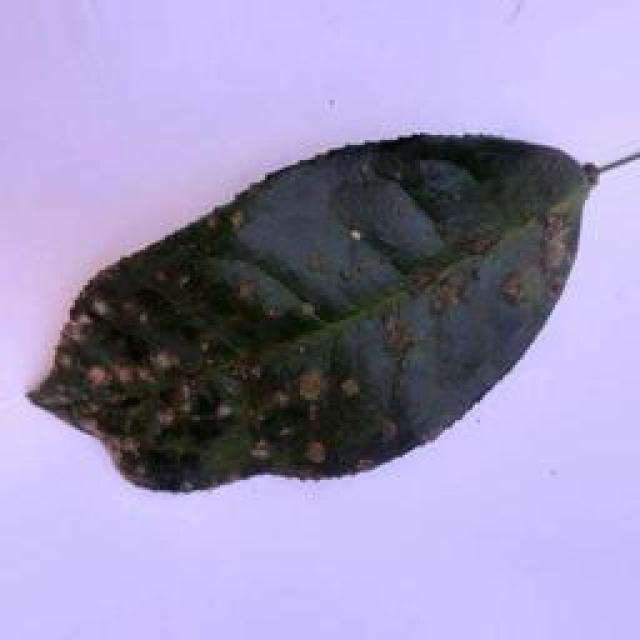Algal Leaf Spot: (34, 142, 598, 506)
